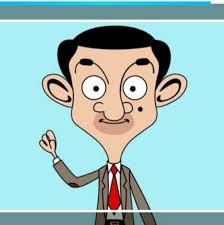mrbean: (39, 24, 188, 225)
